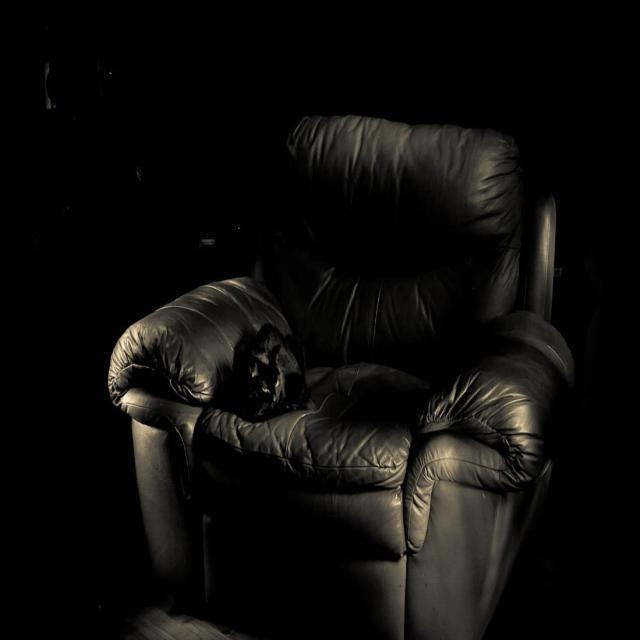Cat: (236, 321, 310, 421)
chair: (101, 102, 576, 640)
